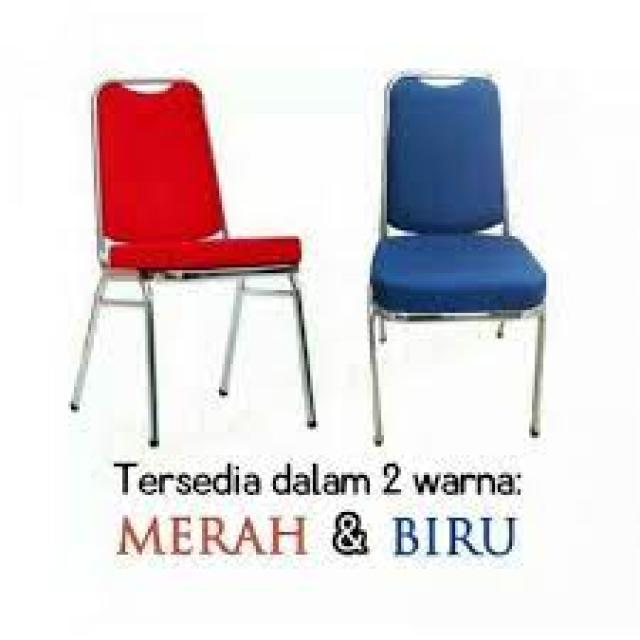chair: (74, 72, 313, 450), (355, 71, 549, 444)
